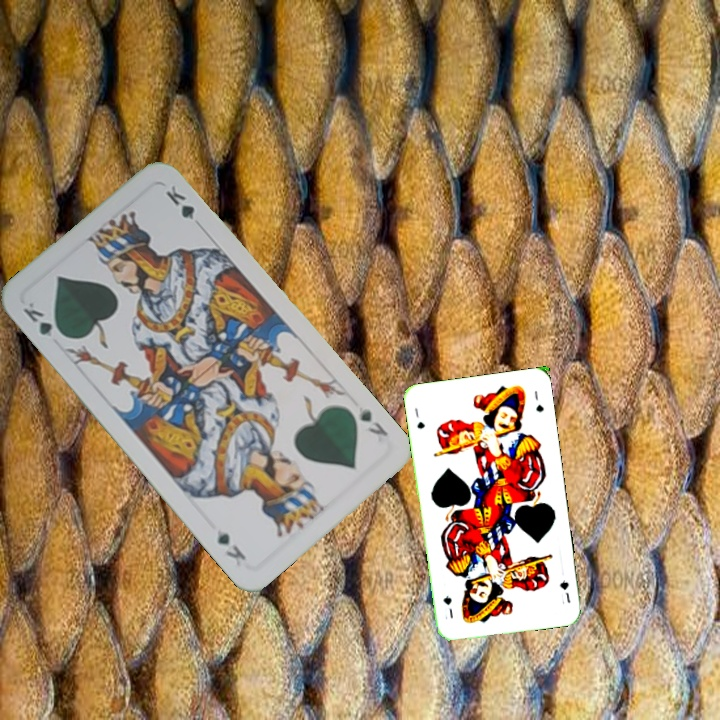GK: (18, 298, 68, 341), (353, 402, 391, 439)
GU: (555, 576, 573, 605), (411, 404, 427, 431)
